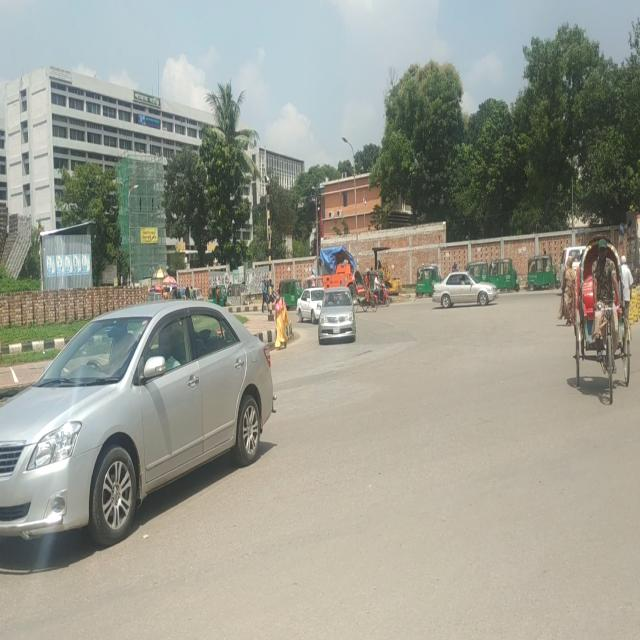silver: (0, 294, 277, 540), (430, 268, 500, 308), (318, 286, 358, 345)
